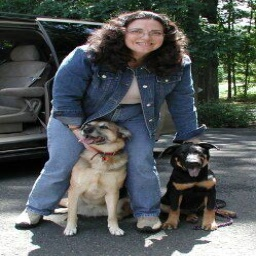dog: (49, 119, 225, 225)
